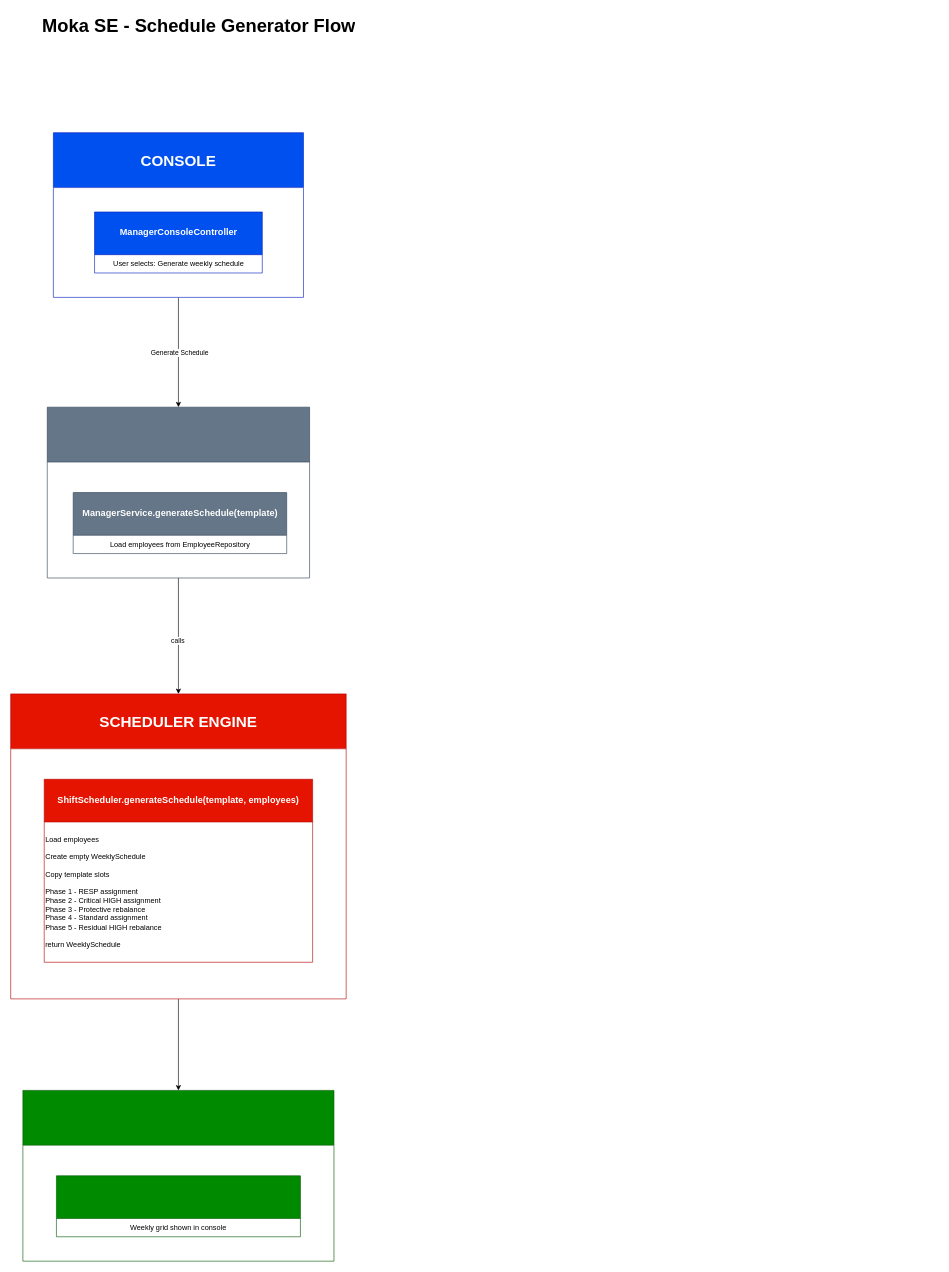
Some shapes in this 949 by 1272 pixel diagram are drawn without their labels. The box of each missing label's shape, as (x1, y1, x2, y2) in pixels:
APPLICATION SERVICE: (47, 407, 310, 578)
OUTPUT: (22, 1090, 334, 1261)
SchedulePrinter.printWeeklyGrid(schedule): (56, 1175, 300, 1237)
